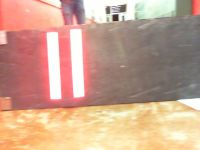switch: (68, 29, 85, 98), (45, 32, 62, 100)
